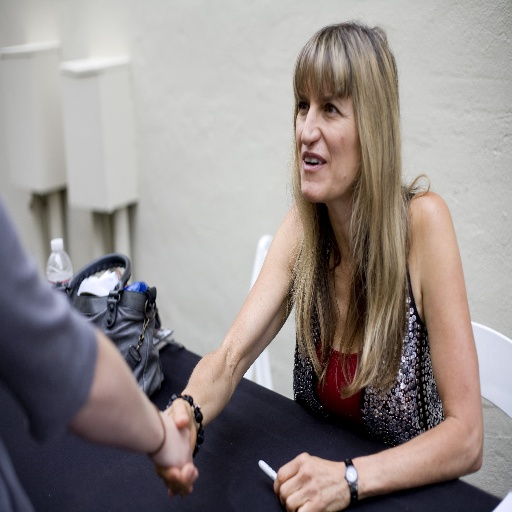hand: (263, 453, 366, 510), (155, 395, 198, 498), (153, 408, 193, 465)
